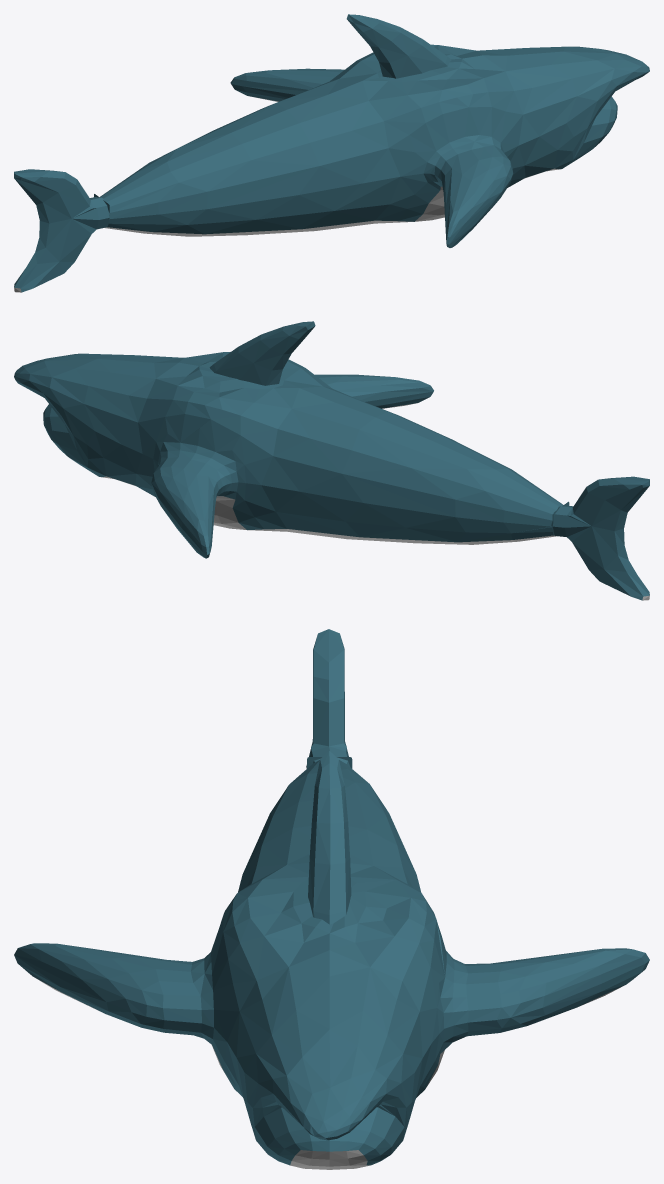
Rendered from Shark1Full.dae.
The picture shows the model from 3 angles, top to bottom: view 1: azimuth 30°, elevation 25°; view 2: azimuth 150°, elevation 25°; view 3: azimuth 270°, elevation 25°; orthographic projection. The views are drawn at different scales.
Visible parts, largest first — view 1: Shark, Shark_001, Cube; view 2: Shark, Shark_001, Cube; view 3: Shark, Cube, Shark_001.
Part boxes in pixels (bbox=[...]): Shark: bbox=[94, 44, 649, 247]; Shark_001: bbox=[14, 169, 109, 292]; Cube: bbox=[346, 14, 451, 78]; Shark: bbox=[14, 352, 569, 558]; Shark_001: bbox=[551, 476, 649, 600]; Cube: bbox=[209, 321, 315, 385]; Shark: bbox=[14, 757, 649, 1169]; Cube: bbox=[308, 750, 351, 924]; Shark_001: bbox=[306, 629, 350, 768].
Bounding box in the file's own units: 43.36 × 26.39 × 13.63.
